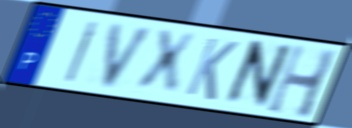H: (263, 42, 340, 121)
I: (62, 19, 102, 85)
K: (182, 35, 241, 103)
N: (219, 38, 295, 111)
V: (100, 22, 158, 92)
X: (133, 28, 199, 97)
